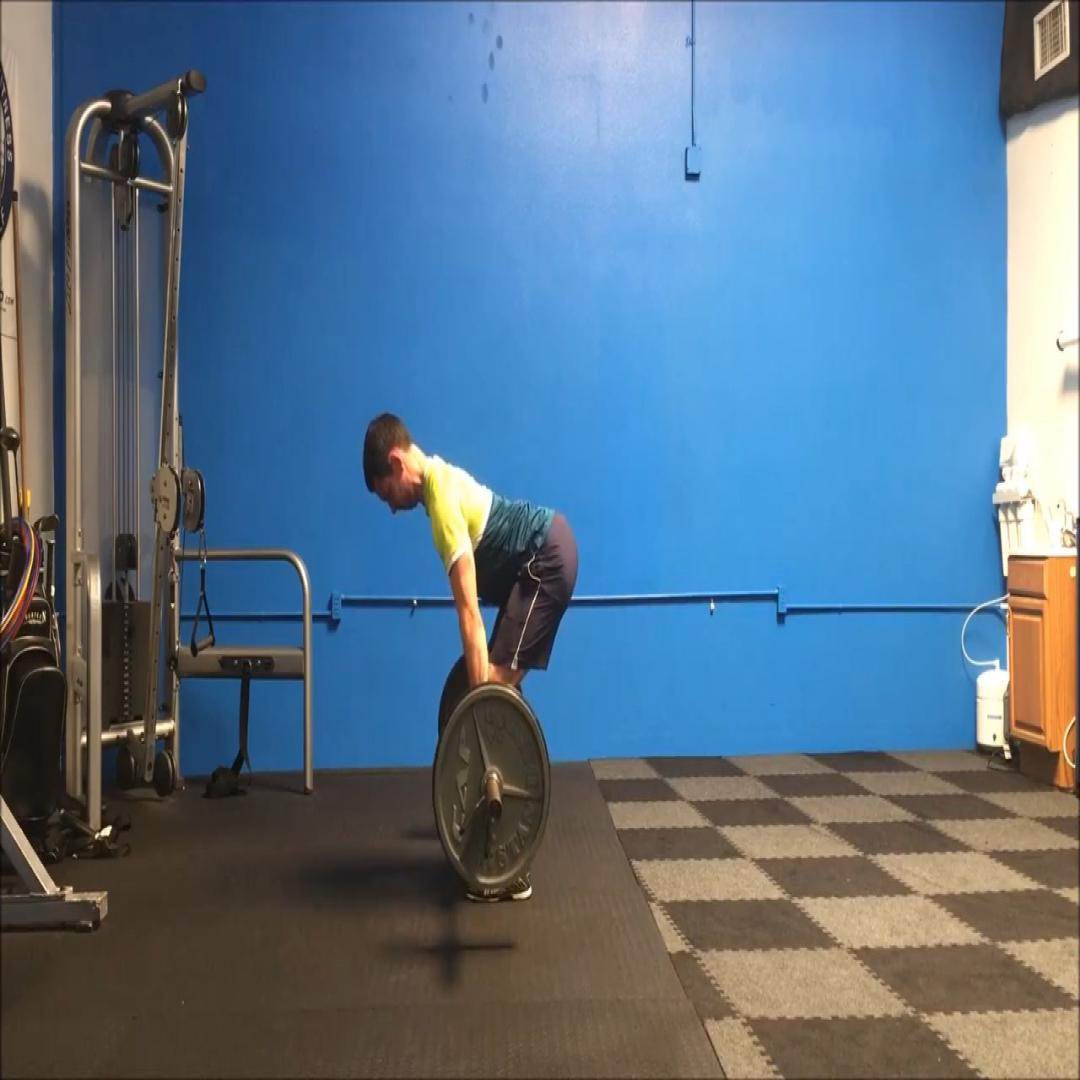Bar: (487, 798, 503, 825)
Barbell: (432, 682, 550, 890)
